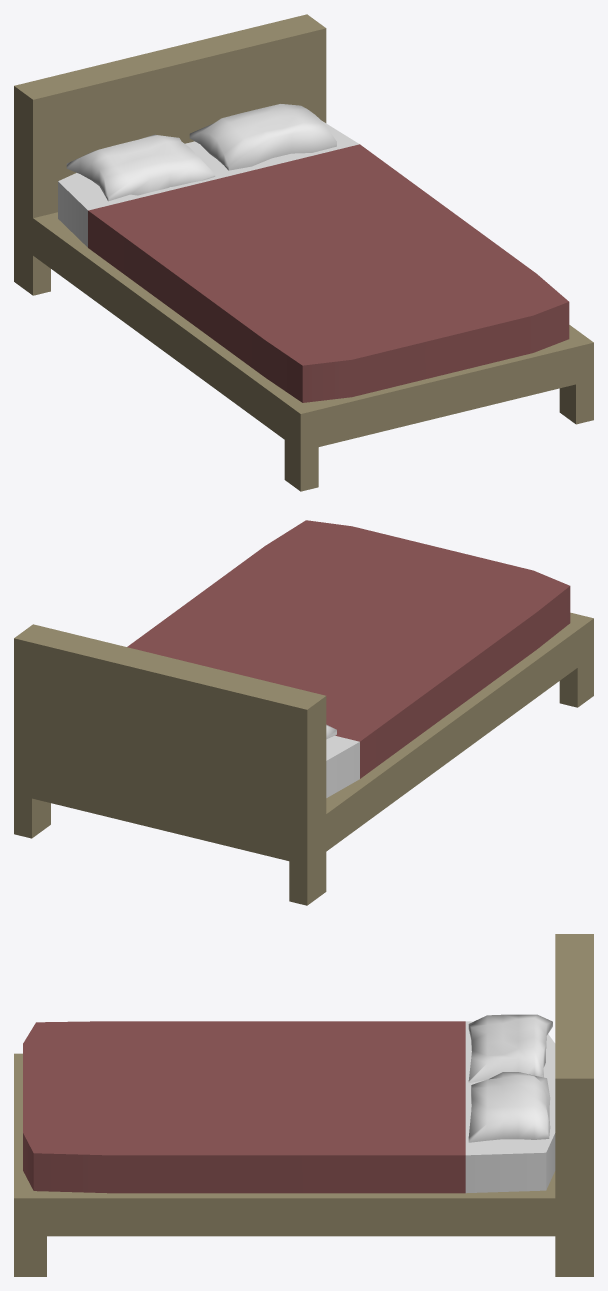
The model's file is bed 1.fbx.
3 views of the same model, one above another, from view 1: azimuth 30°, elevation 25°; view 2: azimuth 150°, elevation 25°; view 3: azimuth 270°, elevation 25° (orthographic).
Parts seen in each view (by area): view 1: mattress, bedFrame, pillow02, pillow01; view 2: bedFrame, mattress; view 3: mattress, bedFrame, pillow02, pillow01.
Boxes of the visible parts, bbox=[...] form: mattress: bbox=[58, 120, 569, 402]; bedFrame: bbox=[14, 14, 593, 491]; pillow02: bbox=[189, 104, 336, 170]; pillow01: bbox=[66, 134, 215, 201]; bedFrame: bbox=[14, 612, 593, 905]; mattress: bbox=[127, 520, 570, 797]; mattress: bbox=[23, 1021, 555, 1193]; bedFrame: bbox=[14, 934, 593, 1276]; pillow02: bbox=[468, 1072, 550, 1142]; pillow01: bbox=[468, 1014, 552, 1082].
Size of the model in its own units: 8.2 by 5.23 by 13.88.
